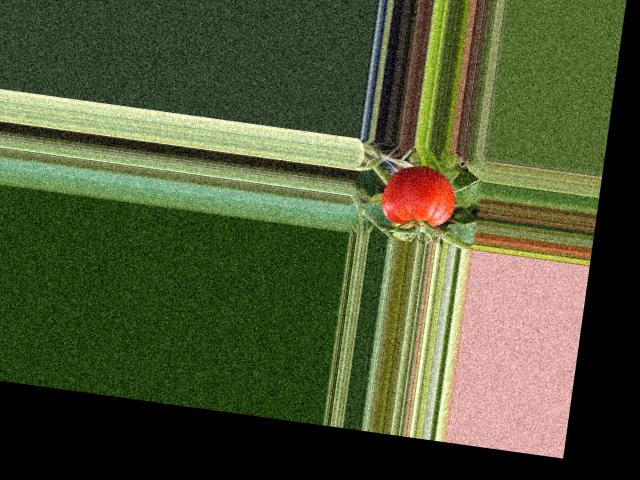tomato: (378, 161, 459, 230)
